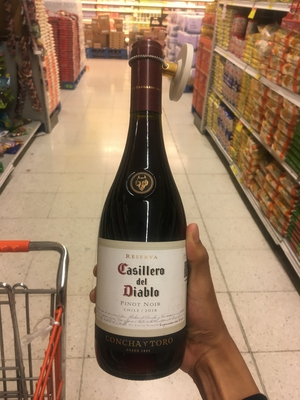casillero del diablo pinot noir: (82, 33, 194, 388)
